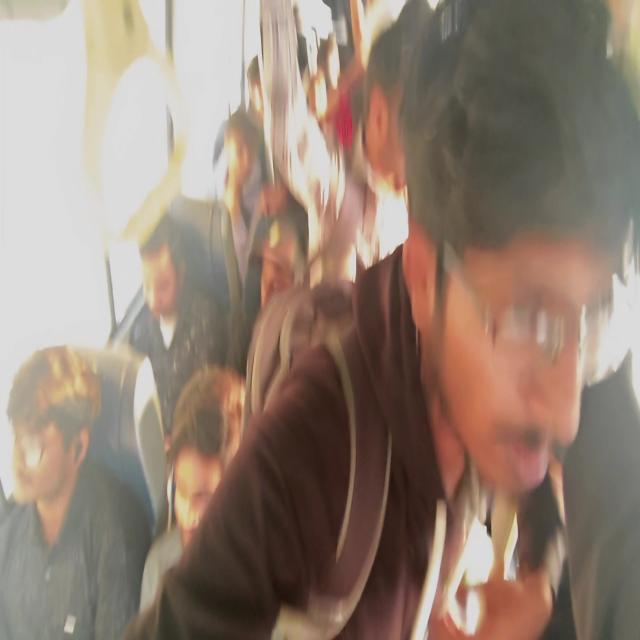person: (122, 0, 638, 638), (1, 344, 153, 638), (138, 363, 247, 616), (128, 210, 230, 449), (216, 108, 266, 288)
